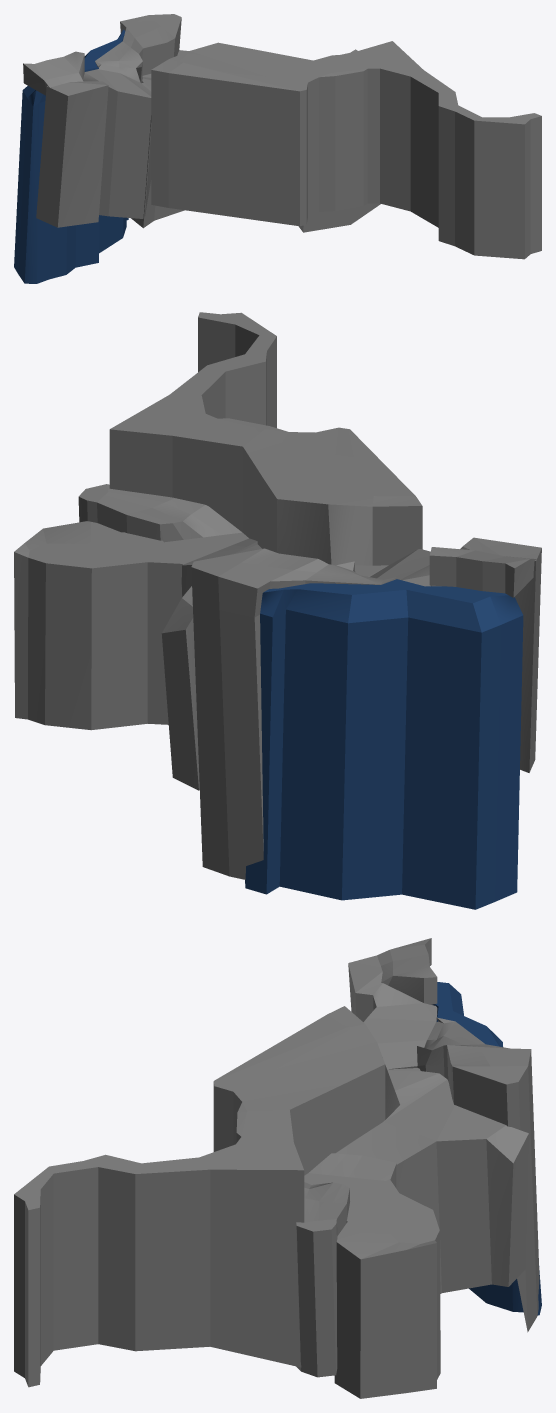
The model's file is 3D_BlockOut_Q8.fbx.
3 views of the same model, one above another, from view 1: azimuth 30°, elevation 25°; view 2: azimuth 150°, elevation 25°; view 3: azimuth 270°, elevation 25° (orthographic). The views are drawn at different scales.
Visible parts, largest first — view 1: Q8, Q8_eau; view 2: Q8, Q8_eau; view 3: Q8, Q8_eau.
Part boxes in pixels (x1,y1,x2,y2): Q8: (23, 14, 541, 259); Q8_eau: (14, 29, 128, 283); Q8: (14, 312, 541, 879); Q8_eau: (245, 579, 523, 909); Q8: (14, 938, 539, 1398); Q8_eau: (432, 982, 541, 1315).
Size of the model in its own units: 8089 by 4643 by 7713.
